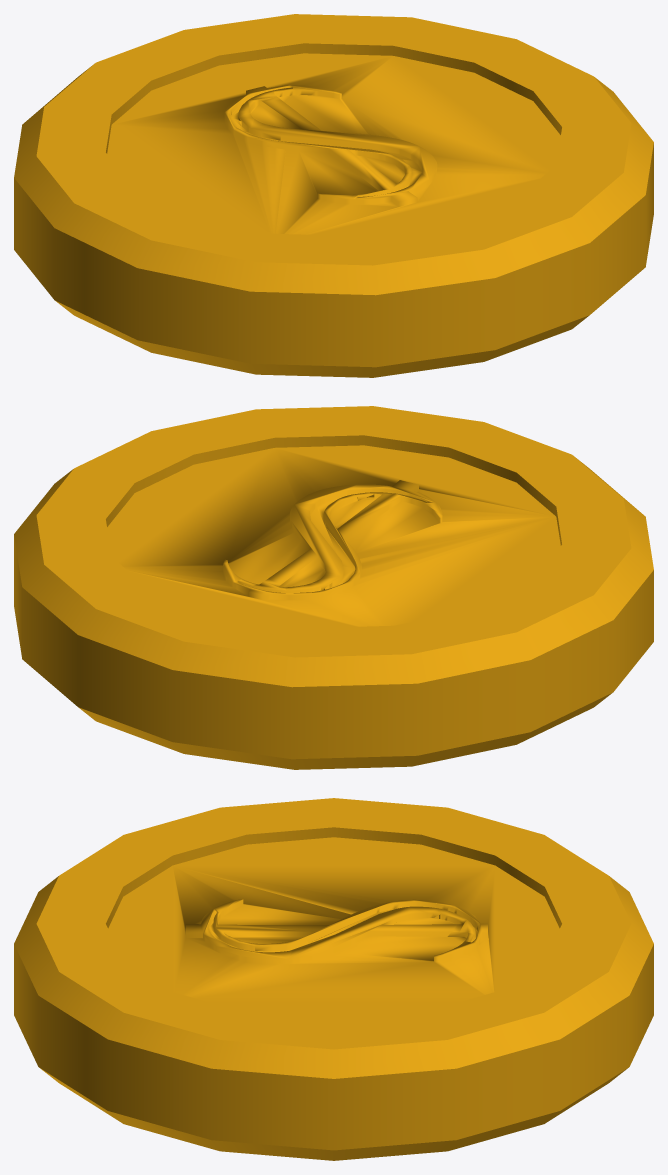
File: coin.glb
3 views of the same model, one above another, from view 1: azimuth 30°, elevation 25°; view 2: azimuth 150°, elevation 25°; view 3: azimuth 270°, elevation 25° (orthographic).
Parts seen in each view (by area): view 1: Cylinder; view 2: Cylinder; view 3: Cylinder.
Part boxes in pixels (<box>): Cylinder: <box>14,14,653,377</box>; Cylinder: <box>14,406,653,769</box>; Cylinder: <box>14,798,653,1160</box>.
Bounding box in the file's own units: 2 × 0.3842 × 2.
